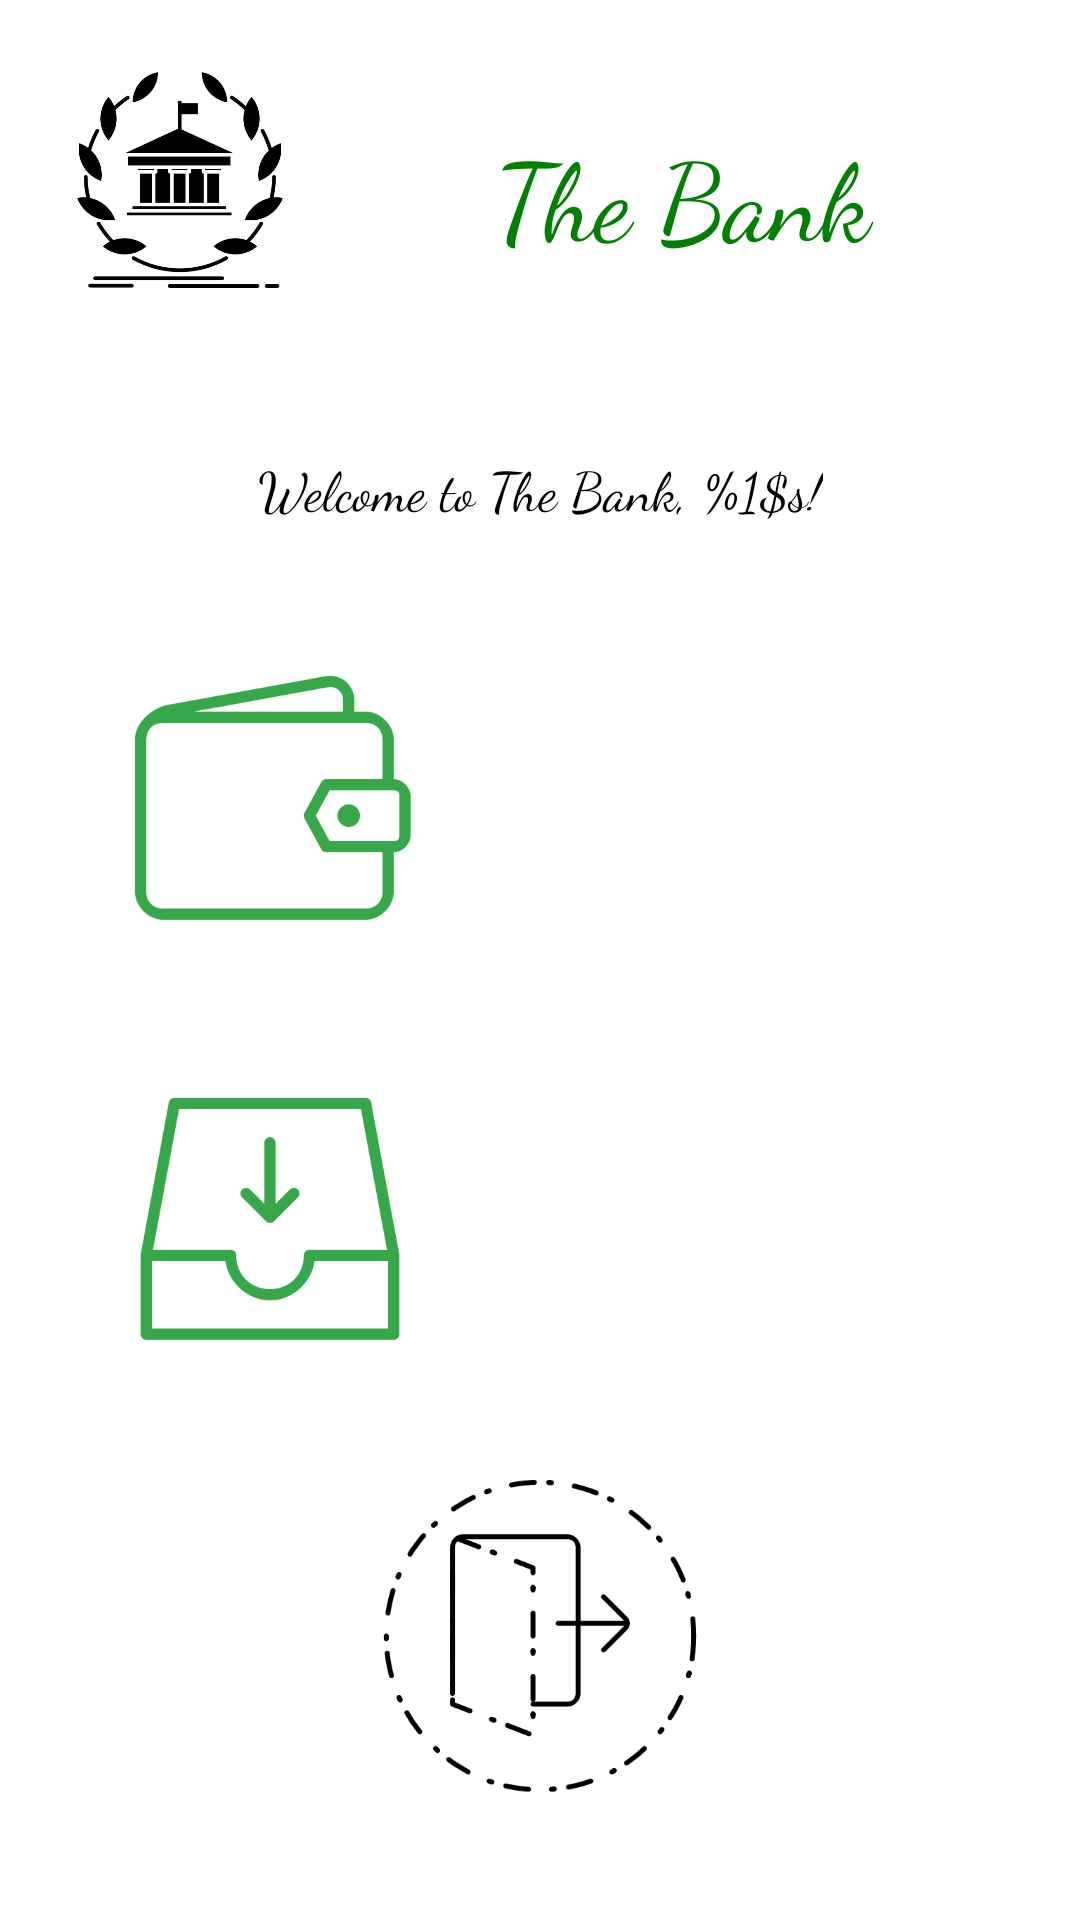

Icon bounding boxes for this 1080x1920 phone screenshot, format (x1, y1, x2, y2):
Receive Money: (140, 1098, 400, 1340)
Wallet: (135, 676, 411, 920)
